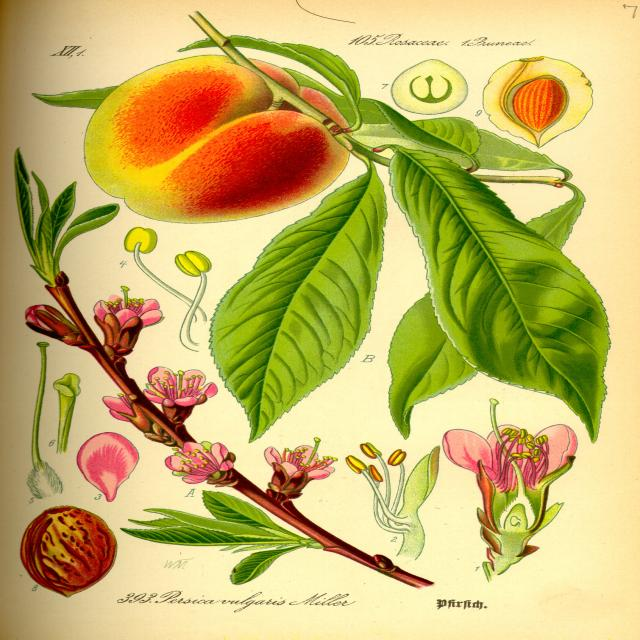peach: (94, 8, 624, 419)
